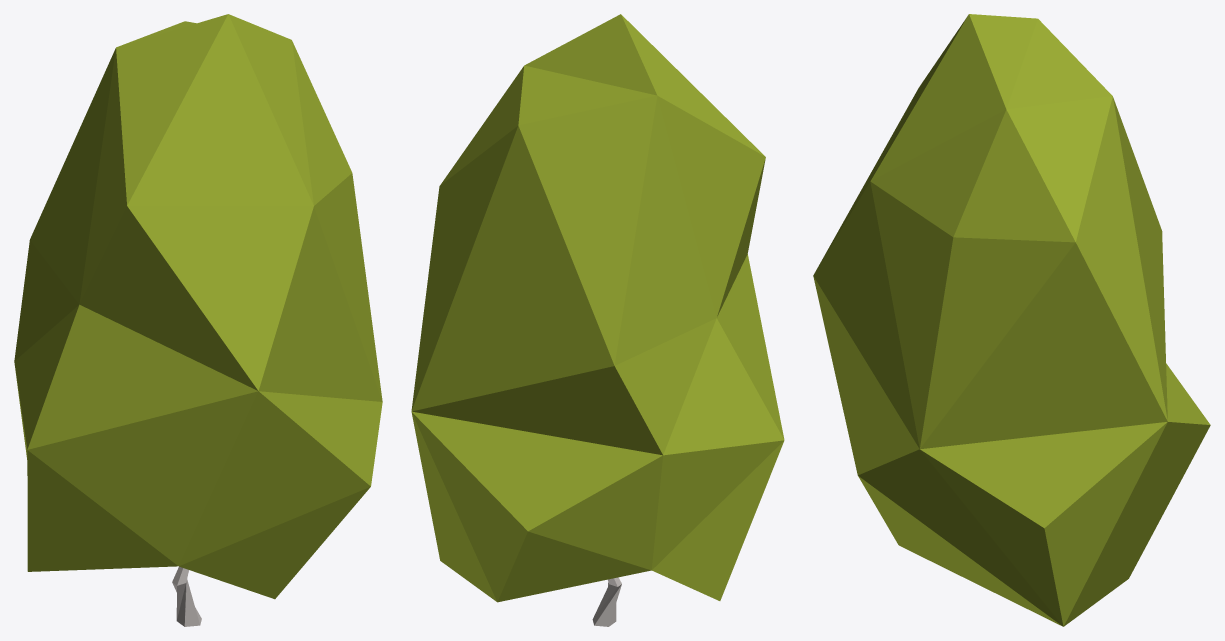
The model's file is SassafrasAlbidum.glb.
The picture shows the model from 3 angles, left to right: view 1: azimuth 30°, elevation 25°; view 2: azimuth 150°, elevation 25°; view 3: azimuth 270°, elevation 25°; orthographic projection. The views are drawn at different scales.
Parts seen in each view (by area): view 1: Crown, Trunk; view 2: Crown, Trunk; view 3: Crown.
Part boxes in pixels (bbox=[...]): Crown: bbox=[14, 14, 382, 599]; Trunk: bbox=[172, 566, 201, 626]; Crown: bbox=[411, 14, 784, 602]; Trunk: bbox=[592, 577, 621, 626]; Crown: bbox=[813, 14, 1210, 626].
Size of the model in its own units: 9.05 by 15.26 by 9.34.
